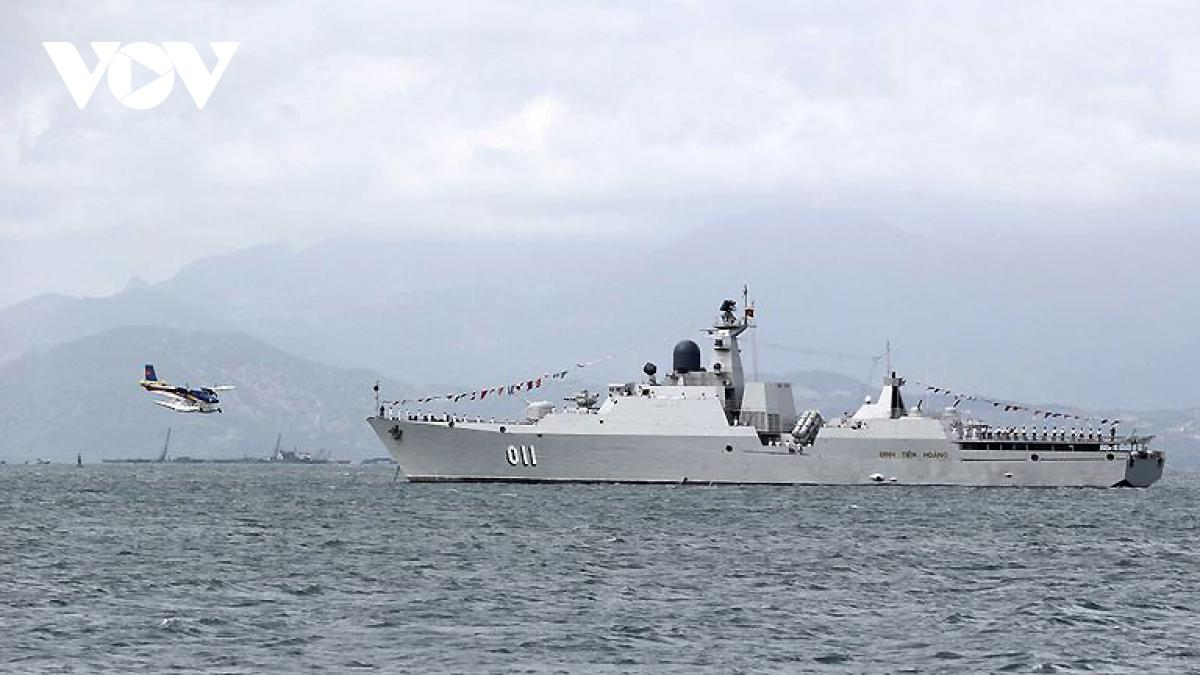MIL_Ship: (362, 292, 1167, 494)
